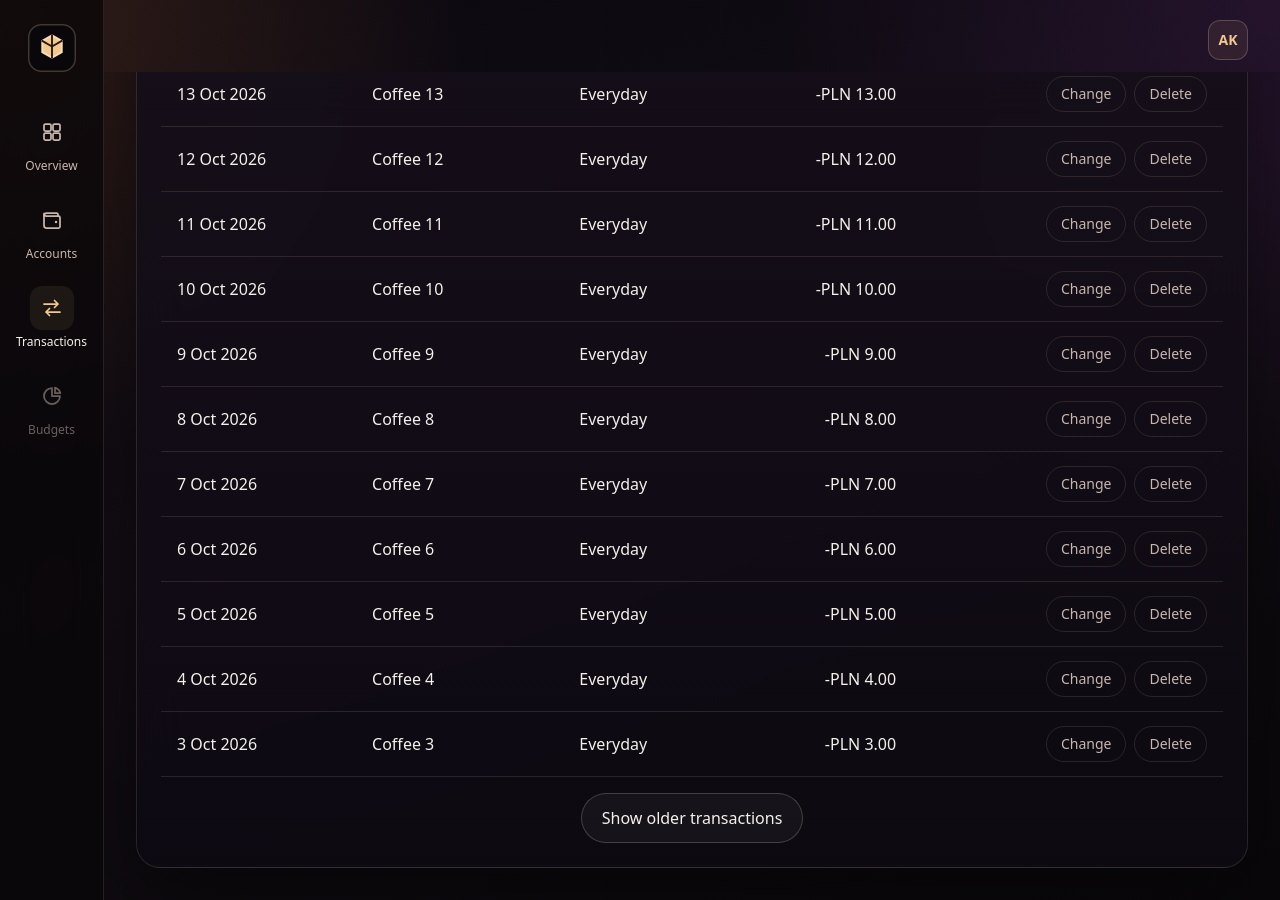
Test case: transactions page › lists every account newest first and loads older pages
The width and height of the screenshot is (1280, 900).
(page scrolled)
Click the button "Show older transactions" at point(692, 818), box [581, 793, 803, 843]
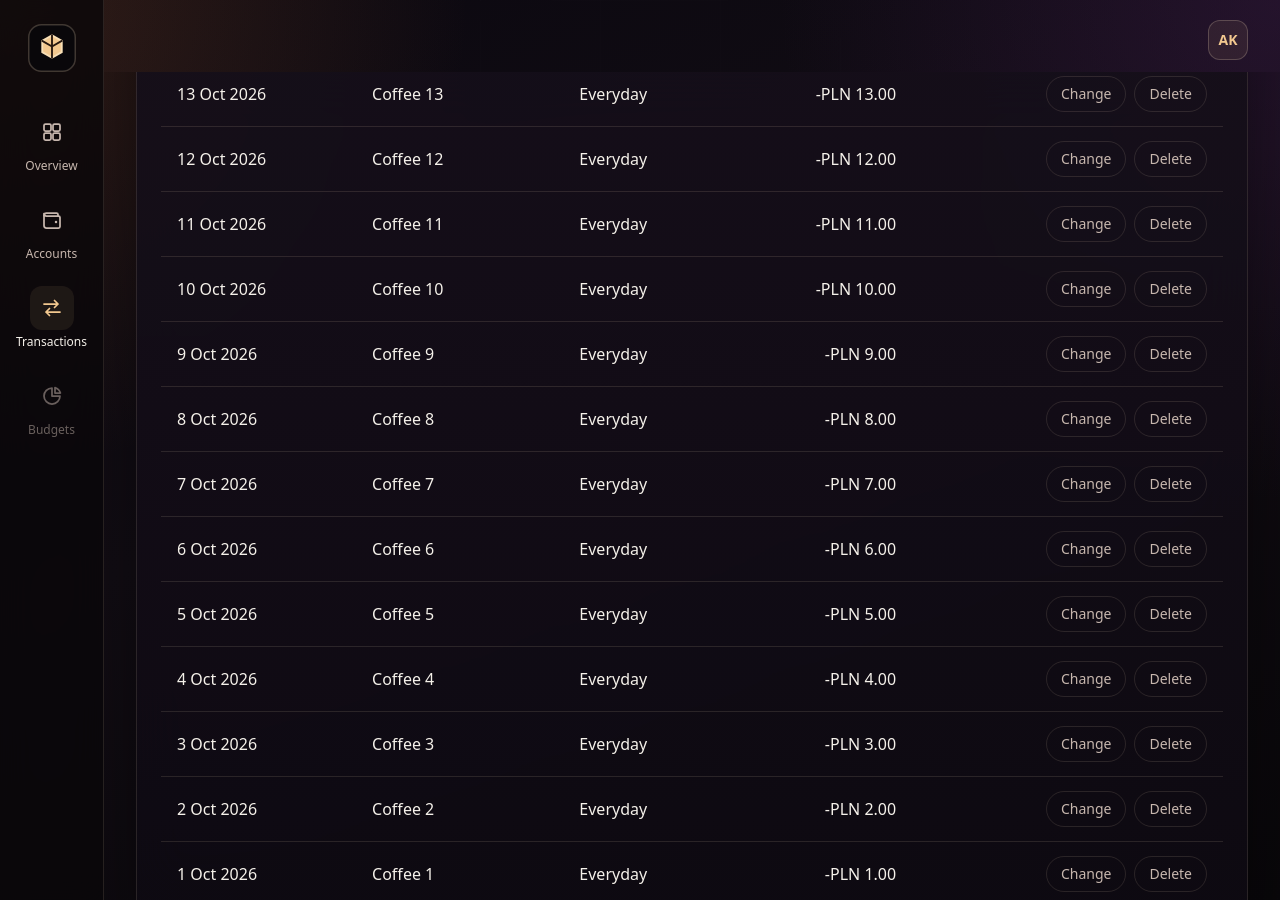
Expected: the text "Coffee 1" is shown, [372, 862, 434, 886]
Expected: the button "Show older transactions" is gone
